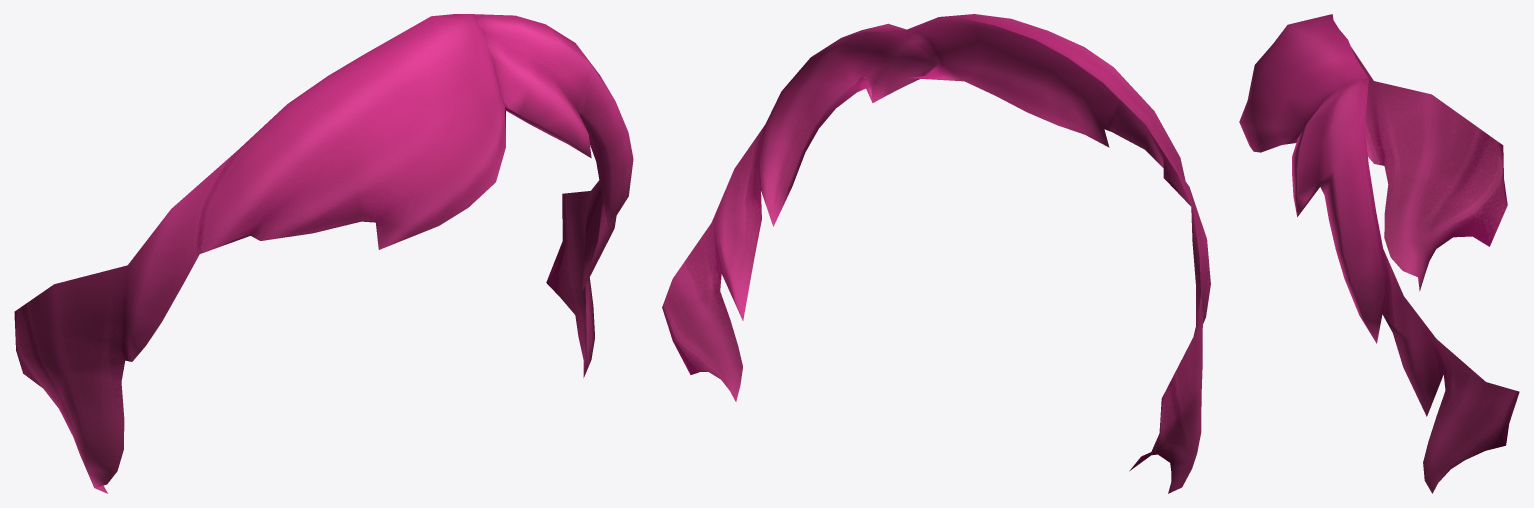
3 renders of one model, left to right at view 1: azimuth 30°, elevation 25°; view 2: azimuth 150°, elevation 25°; view 3: azimuth 270°, elevation 25°, orthographic. The views are drawn at different scales.
Parts seen in each view (by area): view 1: Baby_Gril_01_hair_1; view 2: Baby_Gril_01_hair_1; view 3: Baby_Gril_01_hair_1.
Boxes of the visible parts, x1,y1,x2,y2 form: Baby_Gril_01_hair_1: [14, 14, 633, 493]; Baby_Gril_01_hair_1: [662, 14, 1210, 493]; Baby_Gril_01_hair_1: [1239, 14, 1519, 493].
Bounding box in the file's own units: 99.17 × 74.82 × 51.1.
